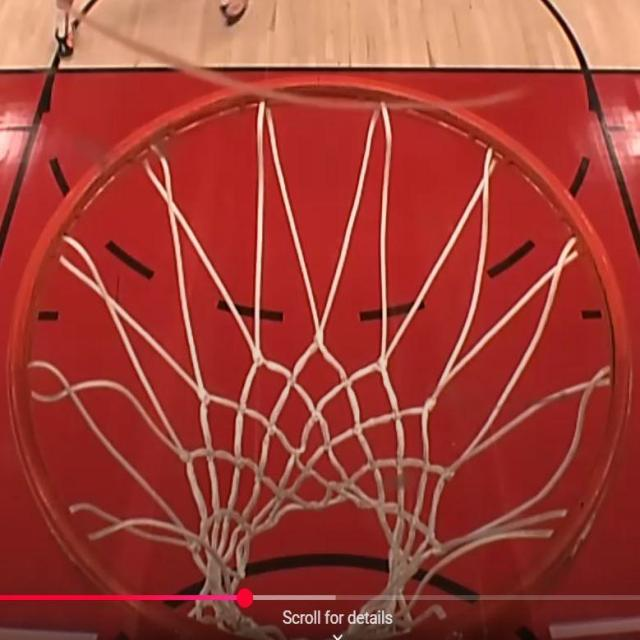hoop: (20, 62, 640, 626)
